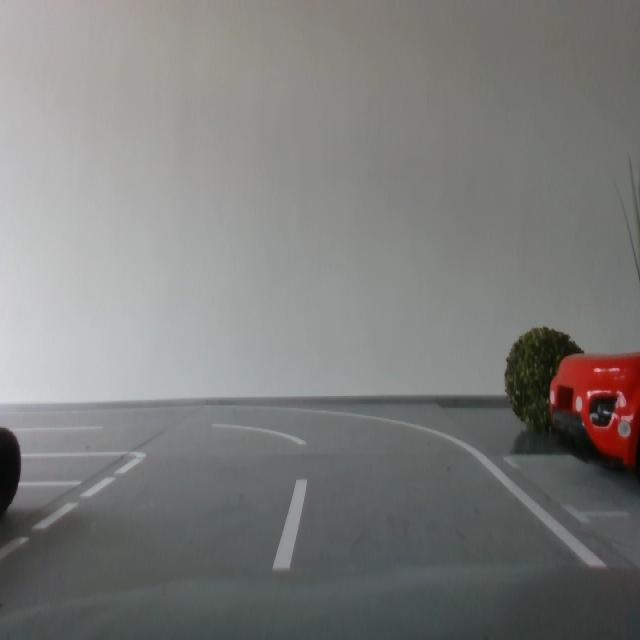car: (549, 352, 640, 474), (2, 424, 24, 532)
potted plant: (506, 324, 594, 445), (619, 153, 640, 283)
